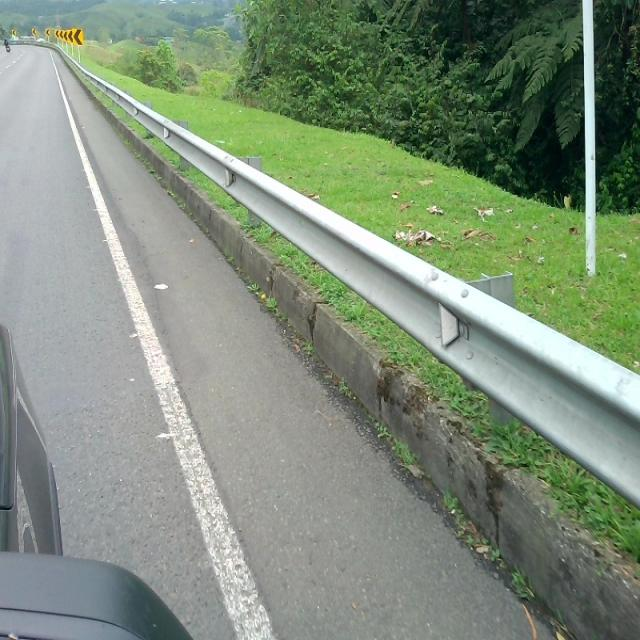DITCH: (2, 38, 636, 638), (23, 38, 638, 638)
